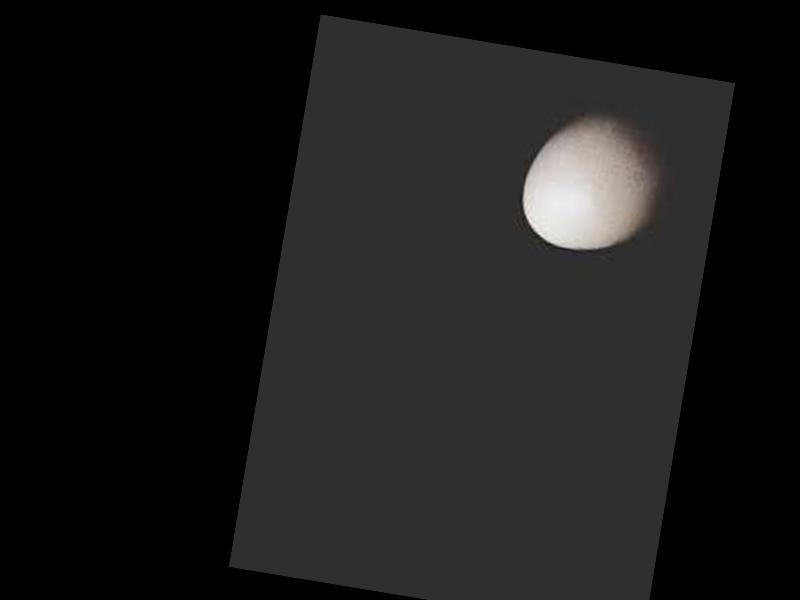Eggs: (514, 98, 674, 261)
